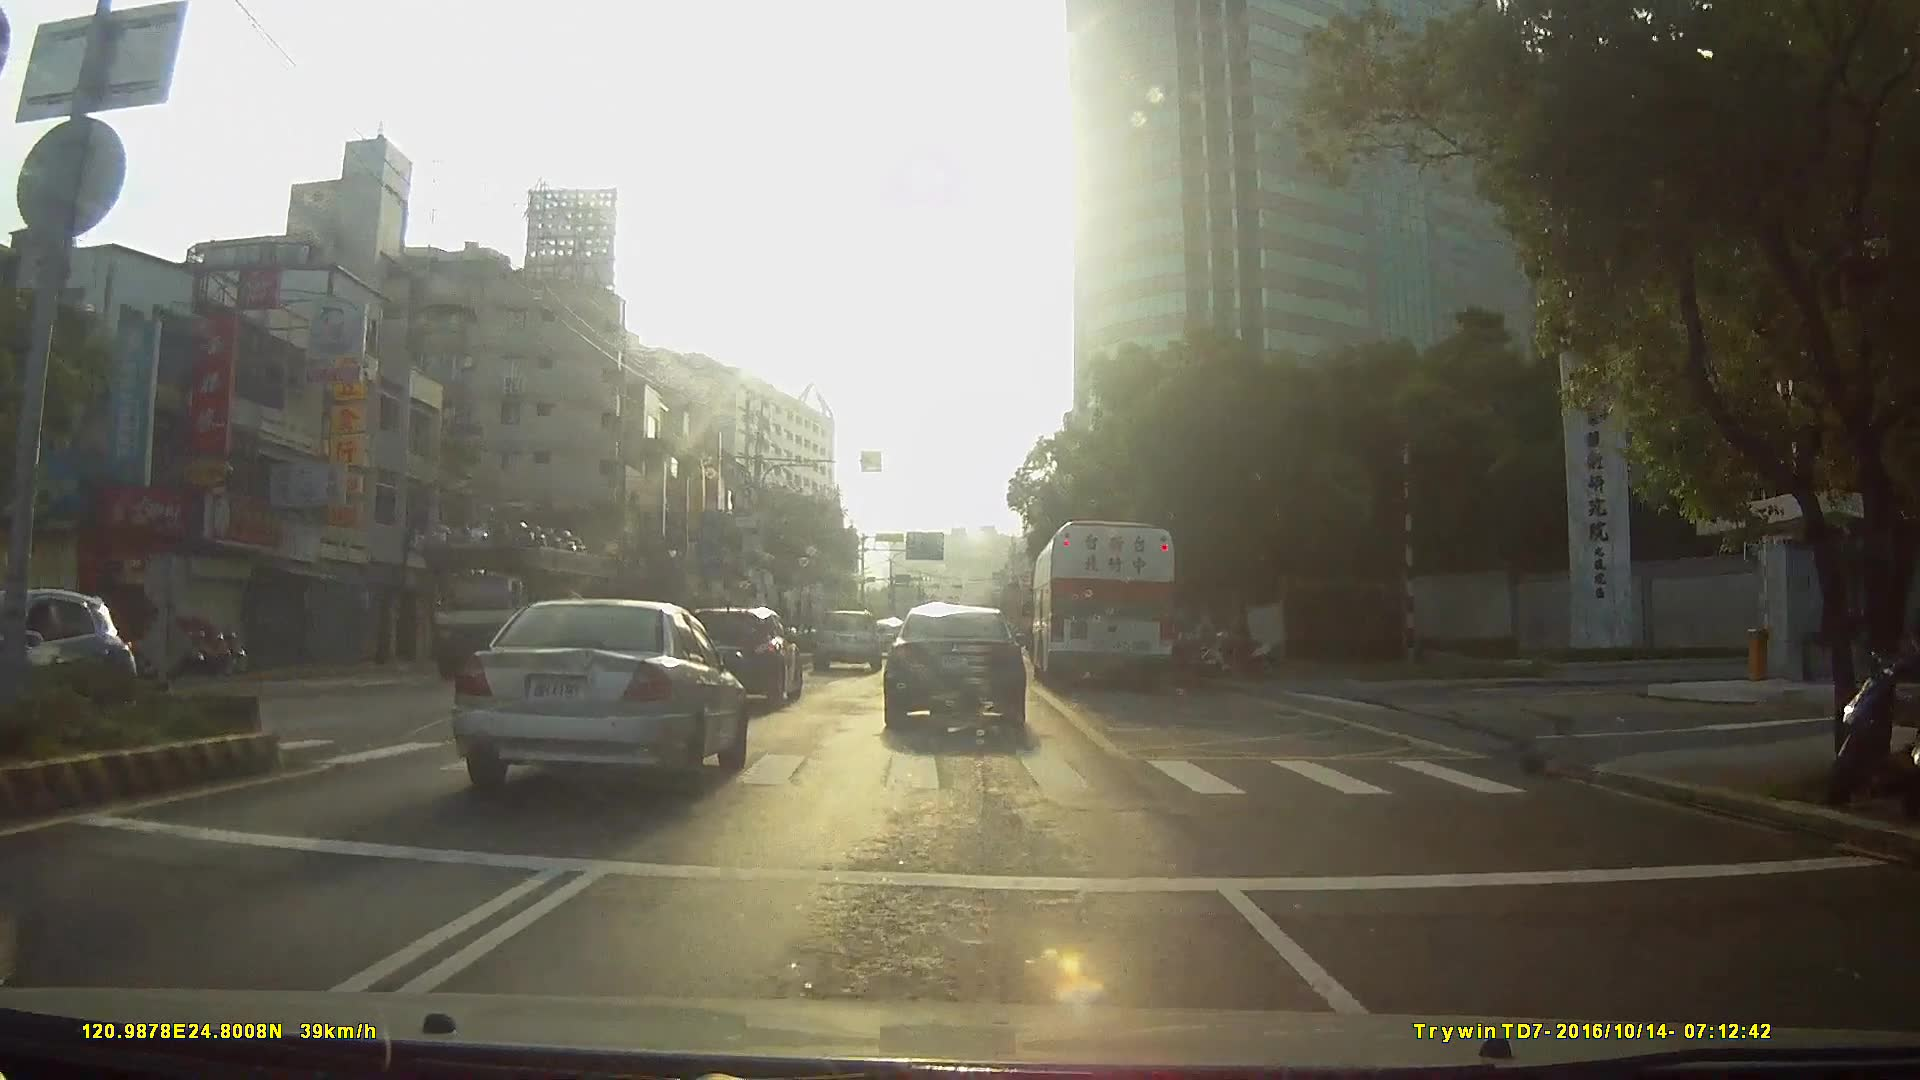vehicle: (440, 596, 746, 800), (425, 505, 622, 688), (1029, 516, 1178, 690), (880, 600, 1025, 732), (1, 589, 141, 713), (678, 607, 800, 709), (811, 608, 882, 673)
